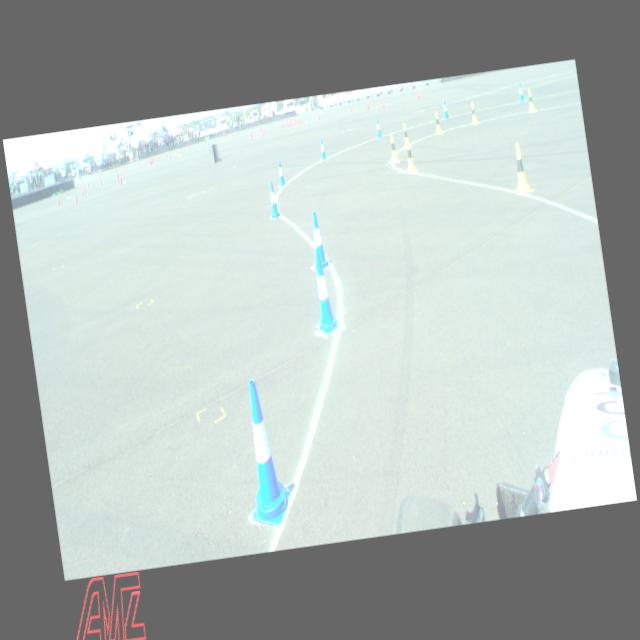blue_cone: (233, 377, 294, 529), (309, 251, 338, 333), (308, 211, 328, 269), (268, 182, 280, 218), (276, 160, 286, 186), (319, 138, 326, 160), (518, 84, 525, 102), (442, 100, 449, 118), (376, 119, 382, 137)
unknown_cone: (74, 192, 78, 203), (81, 187, 84, 196), (84, 187, 87, 196), (119, 177, 122, 186), (57, 197, 60, 205), (223, 130, 226, 137), (65, 190, 68, 197), (388, 96, 391, 102), (418, 91, 420, 100), (382, 100, 384, 108), (132, 160, 134, 168), (417, 91, 419, 98), (368, 101, 370, 108), (366, 102, 368, 109), (283, 121, 285, 128), (99, 170, 101, 177), (100, 179, 102, 186), (117, 176, 119, 183), (87, 182, 89, 188), (318, 114, 320, 120), (297, 118, 299, 124), (292, 116, 294, 122), (290, 120, 292, 126), (288, 121, 290, 127), (282, 122, 284, 128), (262, 130, 264, 136), (251, 132, 253, 138), (225, 134, 228, 138), (166, 152, 168, 158), (140, 164, 142, 170), (126, 163, 128, 169), (117, 172, 119, 178), (152, 158, 154, 164), (152, 156, 154, 162), (286, 117, 288, 122), (250, 132, 252, 137), (169, 155, 171, 160), (148, 158, 150, 163), (150, 157, 152, 162), (300, 118, 302, 122), (294, 117, 296, 121), (252, 128, 254, 132), (218, 134, 220, 138), (178, 150, 180, 154), (168, 149, 170, 153), (170, 148, 172, 152), (188, 143, 190, 147), (138, 162, 140, 166), (89, 174, 91, 178), (111, 169, 113, 173), (116, 168, 118, 172), (290, 118, 291, 125), (125, 168, 126, 174), (108, 170, 110, 173), (261, 127, 262, 132), (156, 158, 157, 162), (351, 106, 352, 110), (294, 120, 295, 124), (262, 126, 263, 130), (231, 130, 232, 134), (181, 150, 182, 154), (114, 167, 115, 171), (203, 139, 204, 143), (186, 144, 187, 148), (136, 160, 138, 162), (125, 164, 126, 168), (260, 124, 261, 128), (157, 158, 158, 162), (204, 139, 205, 142), (288, 122, 288, 126), (260, 127, 260, 131)
yellow_cone: (512, 142, 530, 194), (404, 140, 416, 172), (388, 134, 399, 163), (402, 122, 411, 148), (526, 89, 535, 113), (470, 100, 478, 124), (433, 112, 441, 134)
